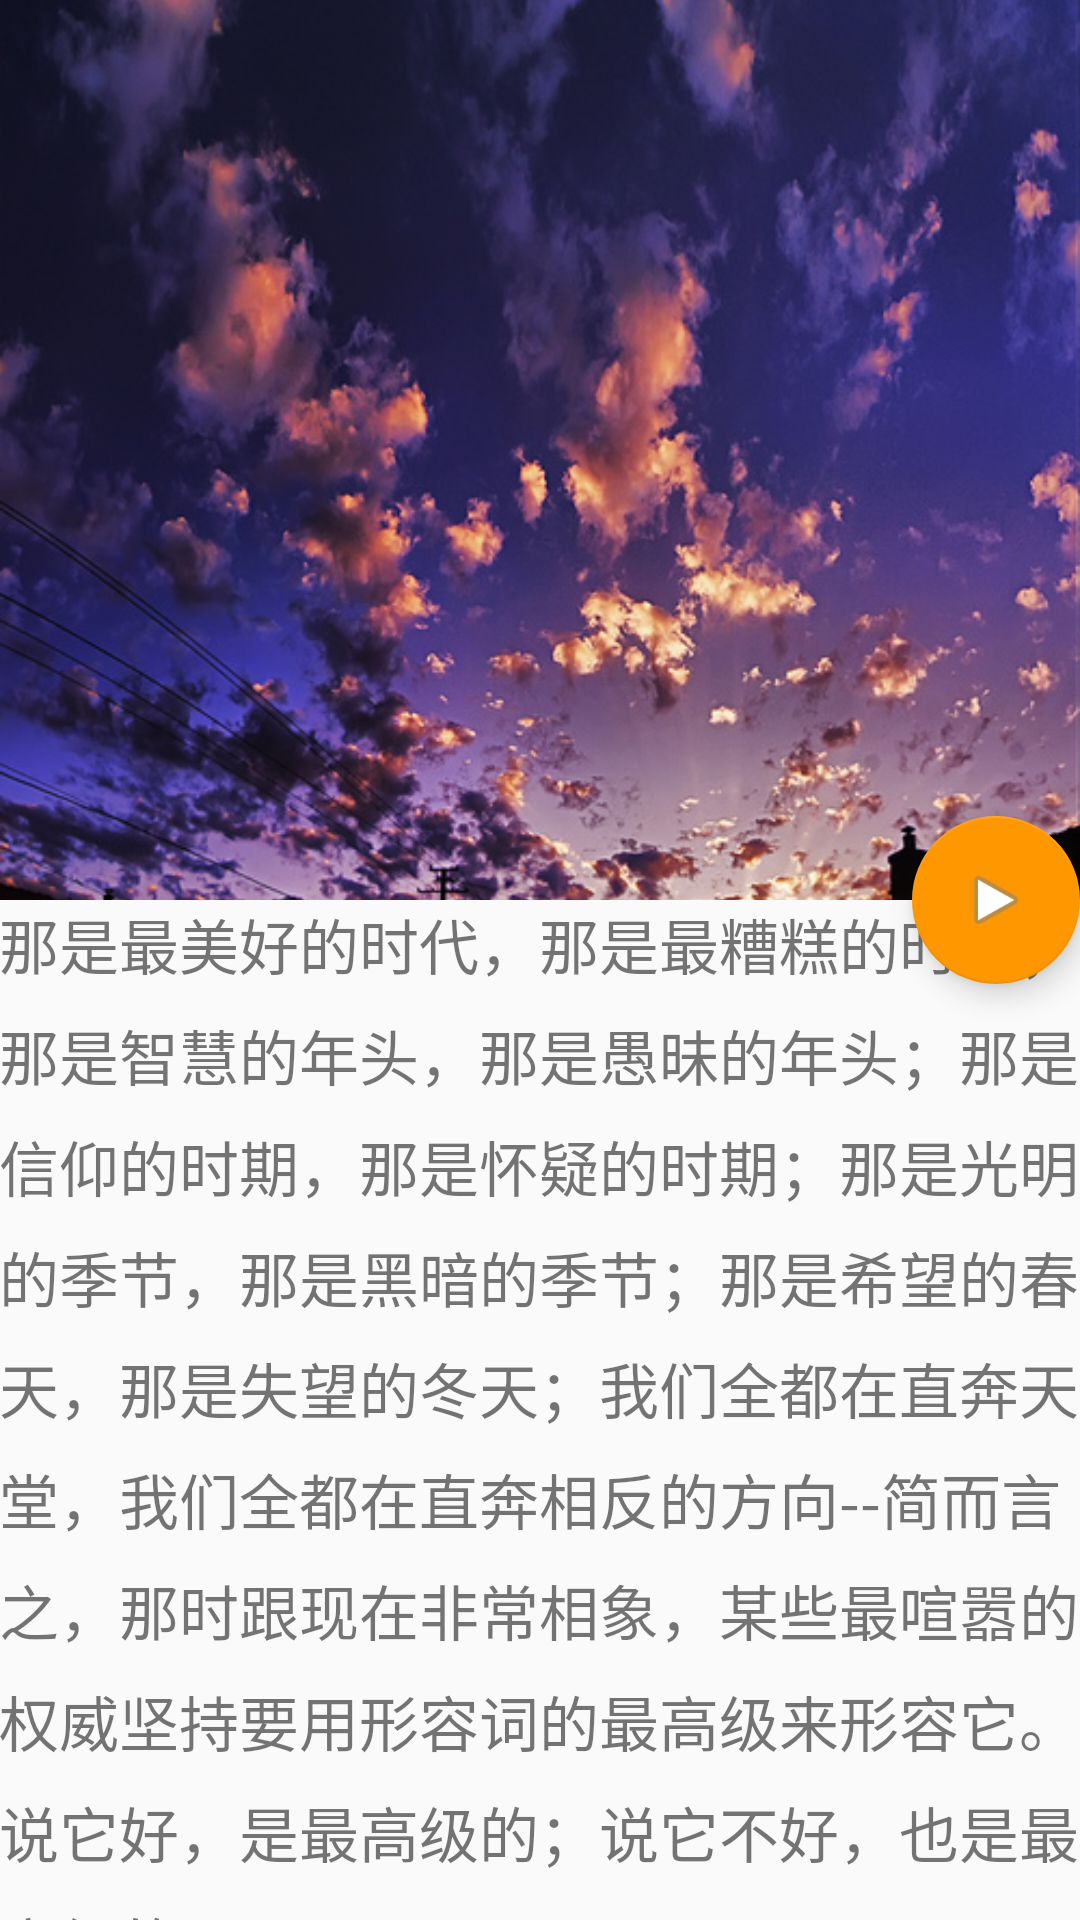

Icon click points for this 1080 x 1920 phone screenshot, format (x=x, y=y):
play: (x=996, y=900)
